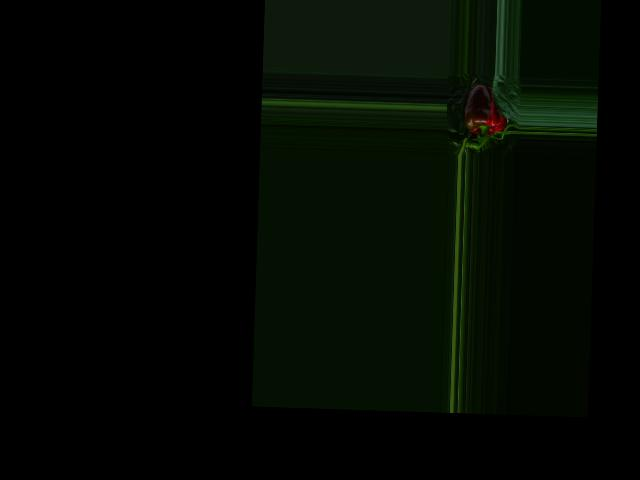bell_pepper: (456, 79, 510, 142)
